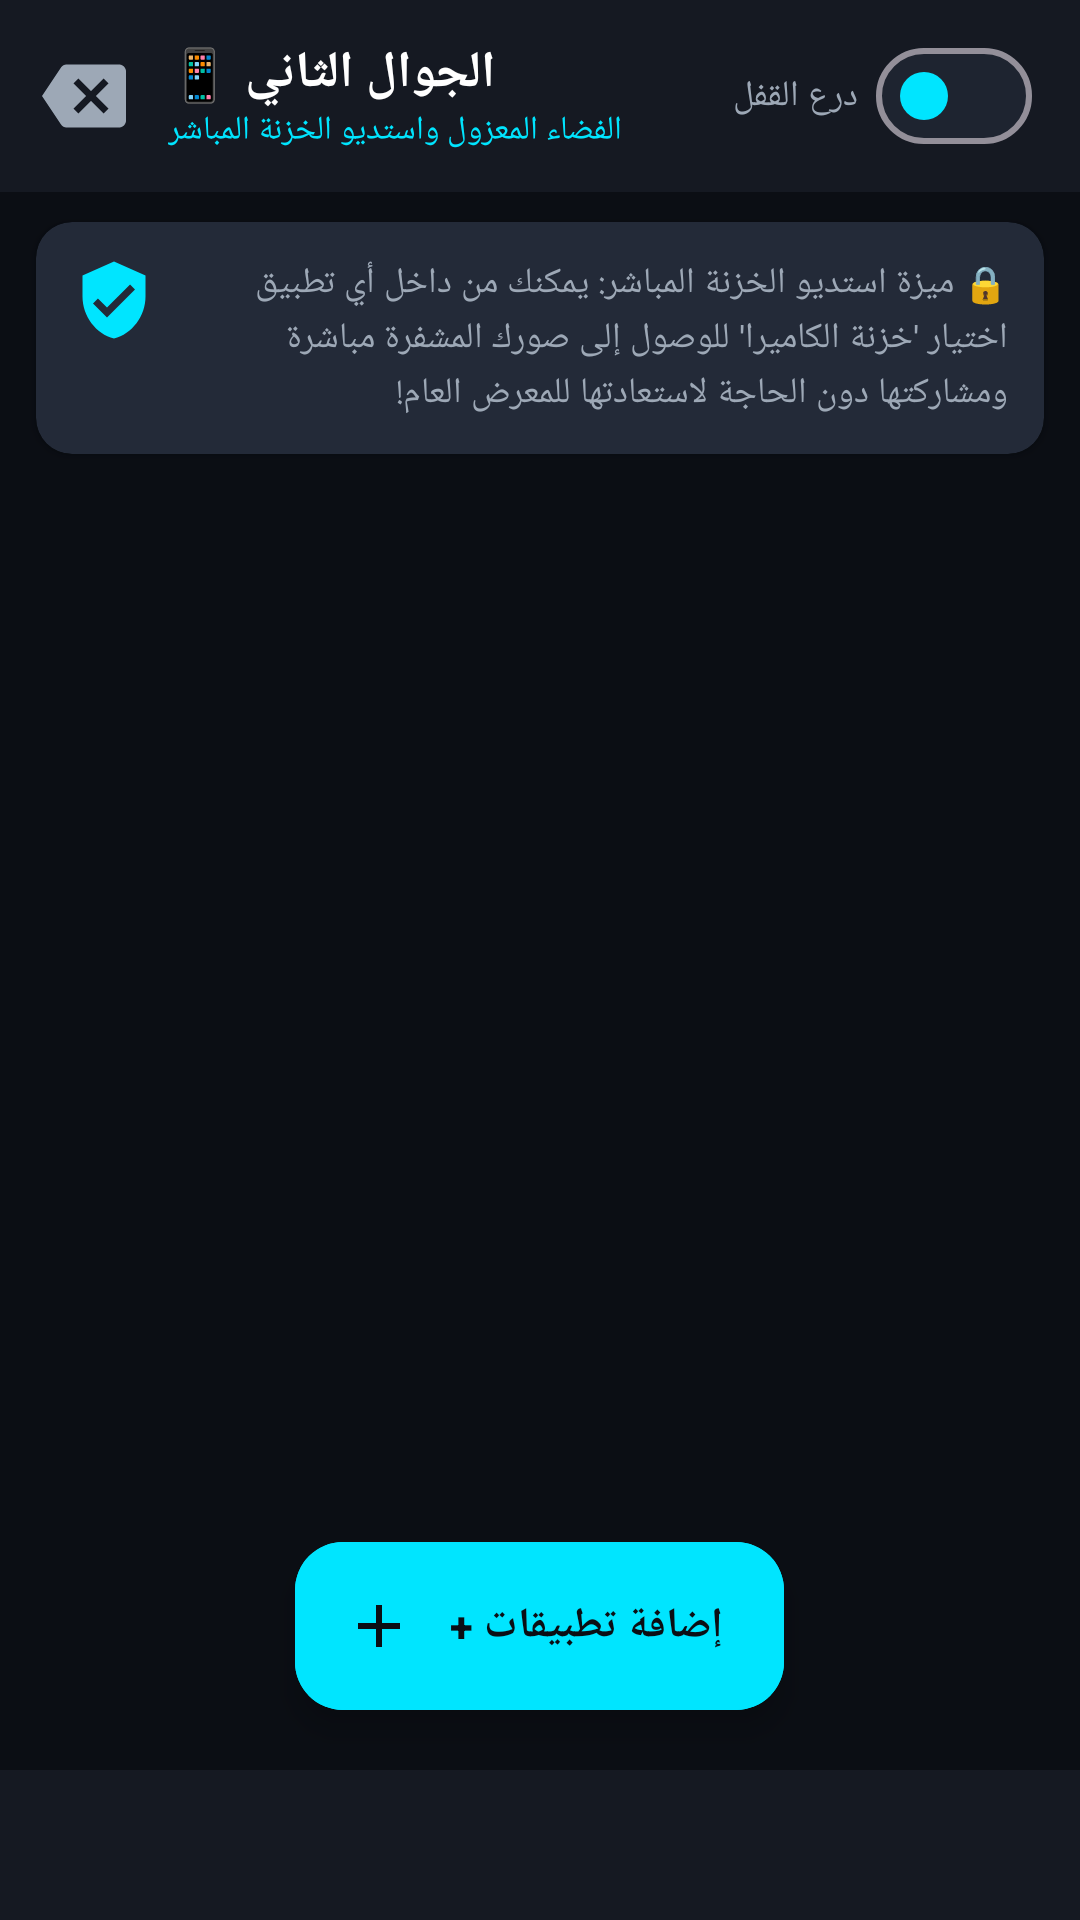

Where to tap for icons on this 1080×1920 app screen, as [x,y]:
shield: [114,300]
